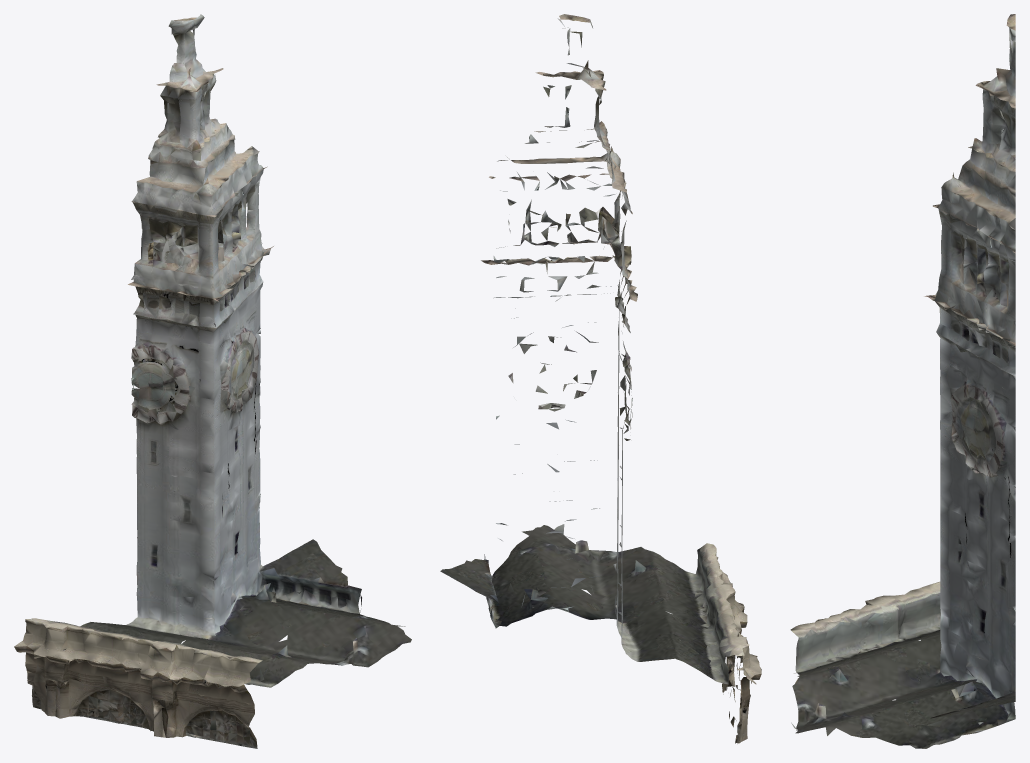
3 renders of one model, left to right at view 1: azimuth 30°, elevation 25°; view 2: azimuth 150°, elevation 25°; view 3: azimuth 270°, elevation 25°, orthographic. The views are drawn at different scales.
Size of the model in its own units: 28.13 by 57.13 by 16.15.
1 material, 1 textured.
